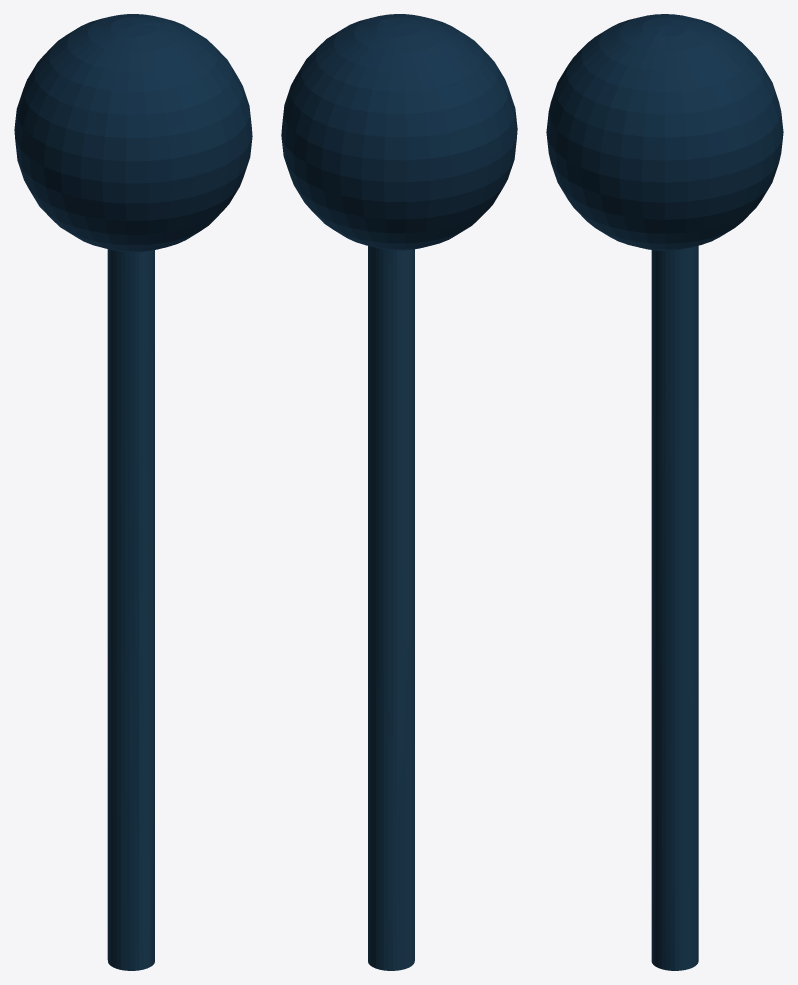
The model's file is AntenaTele.obj.
3 renders of one model, left to right at view 1: azimuth 30°, elevation 25°; view 2: azimuth 150°, elevation 25°; view 3: azimuth 270°, elevation 25°, orthographic.
Visible parts, largest first — view 1: Esfera, Cilindro; view 2: Esfera, Cilindro; view 3: Esfera, Cilindro.
Boxes of the visible parts, <box> form: Esfera: <box>14,14,252,252</box>; Cilindro: <box>107,249,154,970</box>; Esfera: <box>281,14,517,250</box>; Cilindro: <box>368,246,414,970</box>; Esfera: <box>546,14,783,250</box>; Cilindro: <box>651,245,698,970</box>.
Size of the model in its own units: 0.3295 by 1.43 by 0.3295.
2 materials, 2 textured.
